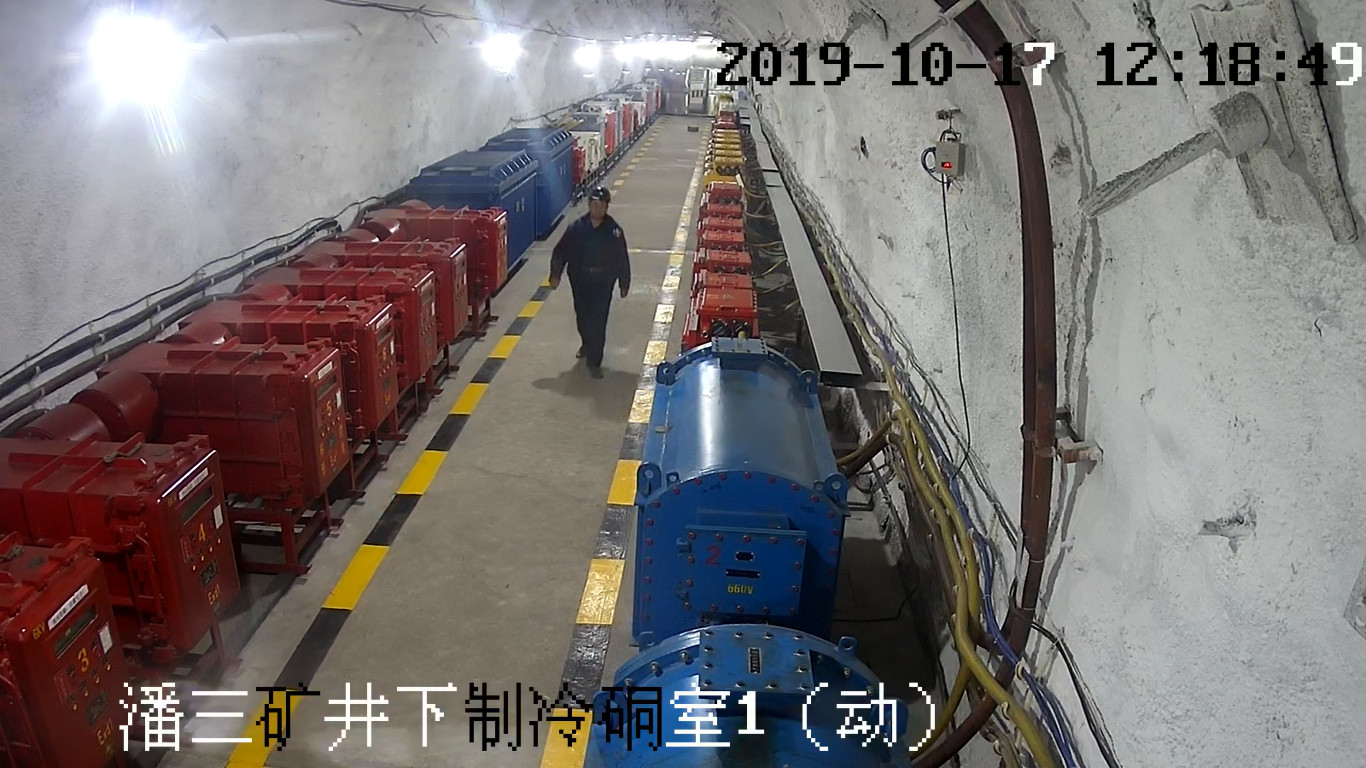helmet: (587, 184, 612, 202)
